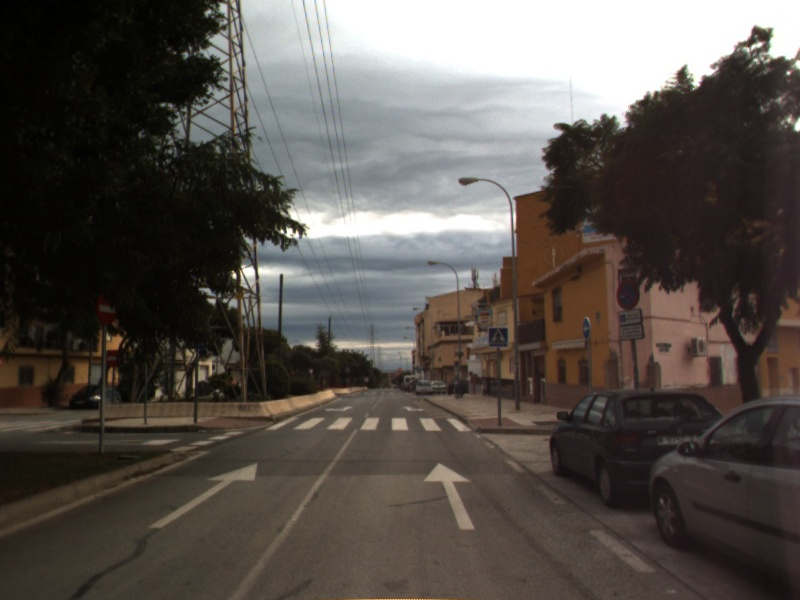STRAIGHT: (147, 461, 259, 530), (421, 460, 477, 531)
STRAIGHT_LEFT: (323, 403, 356, 414)
STRAIGHT_RIGHT: (400, 404, 428, 414)
